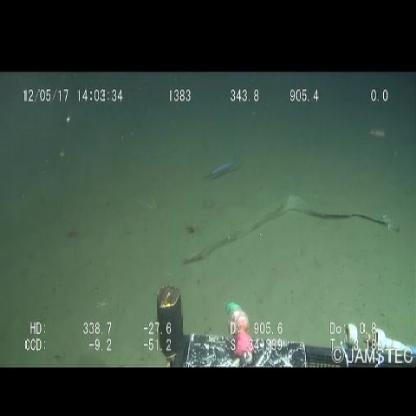Bio: (204, 155, 245, 186)
Rác: (174, 188, 403, 278)
